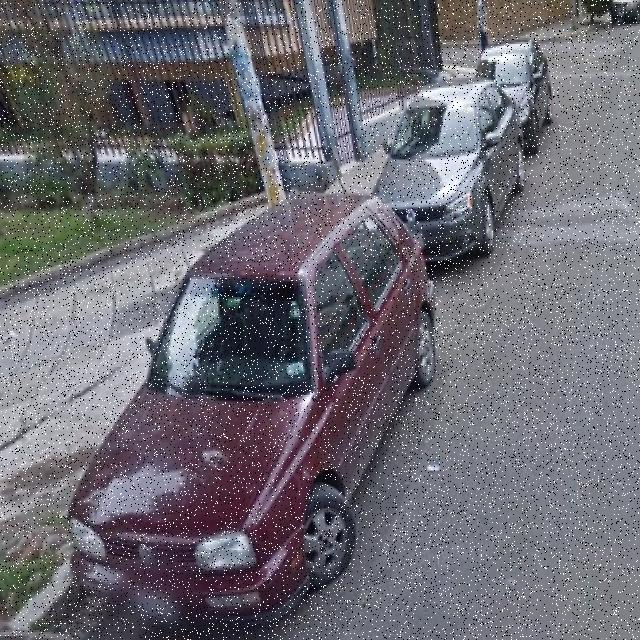cars: (72, 199, 446, 640), (374, 50, 504, 216)
